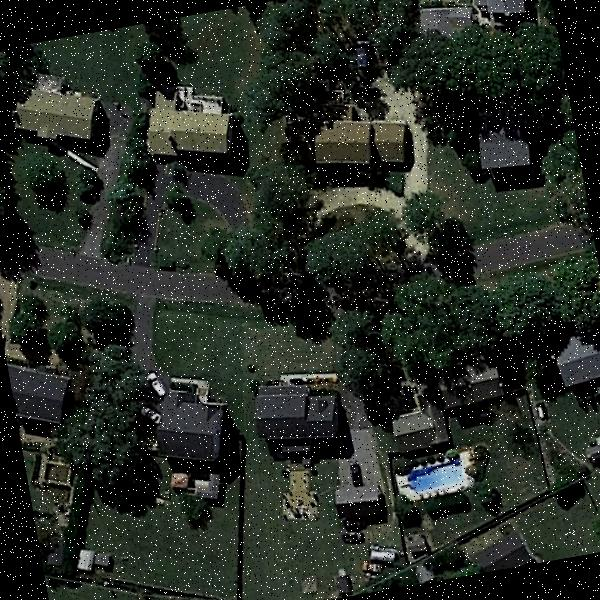Buildings: (136, 86, 238, 170), (304, 106, 410, 172), (250, 380, 334, 446), (14, 85, 96, 147), (164, 385, 227, 465), (8, 364, 66, 435), (466, 517, 528, 574), (552, 337, 600, 393), (442, 376, 503, 413), (486, 140, 528, 171), (390, 416, 430, 447), (478, 0, 522, 13)
